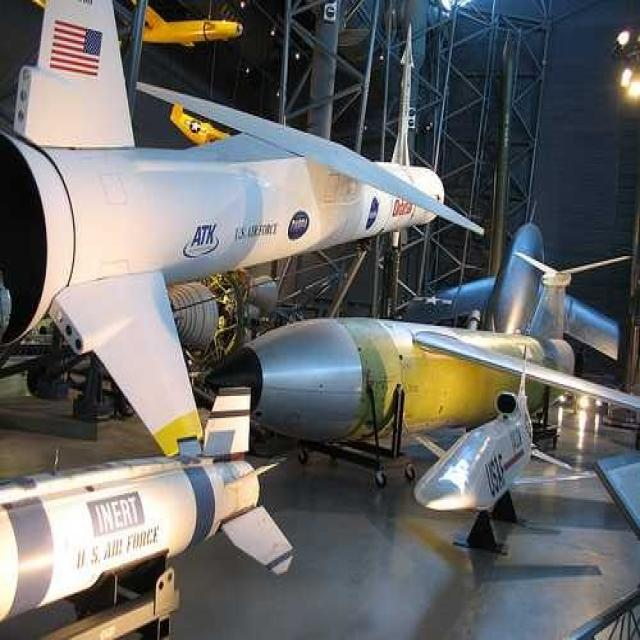missile: (0, 3, 442, 458), (0, 400, 293, 610)
